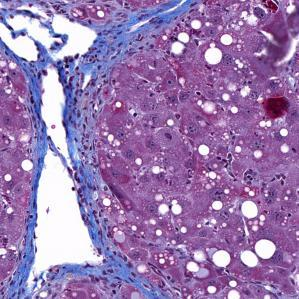fibrosis: (55, 57, 112, 200)
